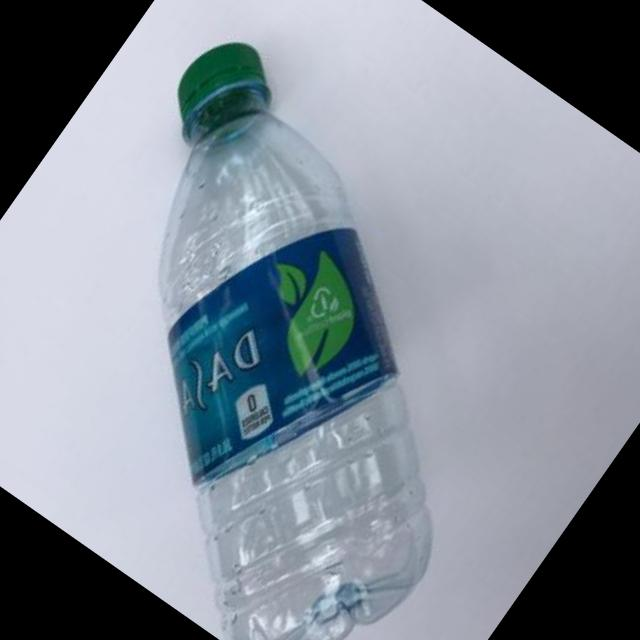BotolPlastik: (0, 21, 616, 640)
